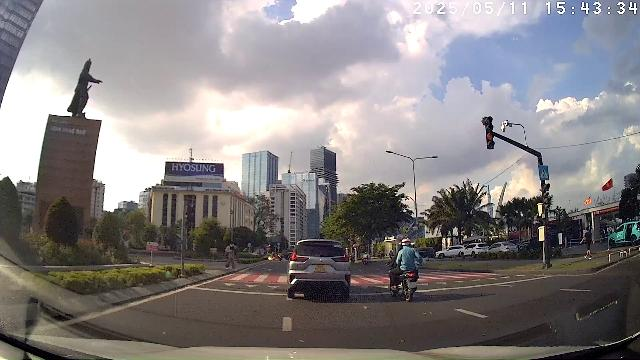423a-duong-nguoi-di-bo-sang-ngang-1: (539, 165, 549, 180)
